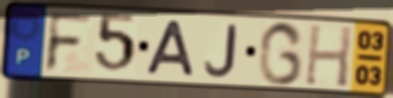5: (93, 12, 139, 79)
A: (143, 18, 197, 78)
F: (42, 10, 96, 75)
G: (256, 19, 306, 88)
H: (302, 22, 355, 90)
J: (202, 23, 238, 79)
